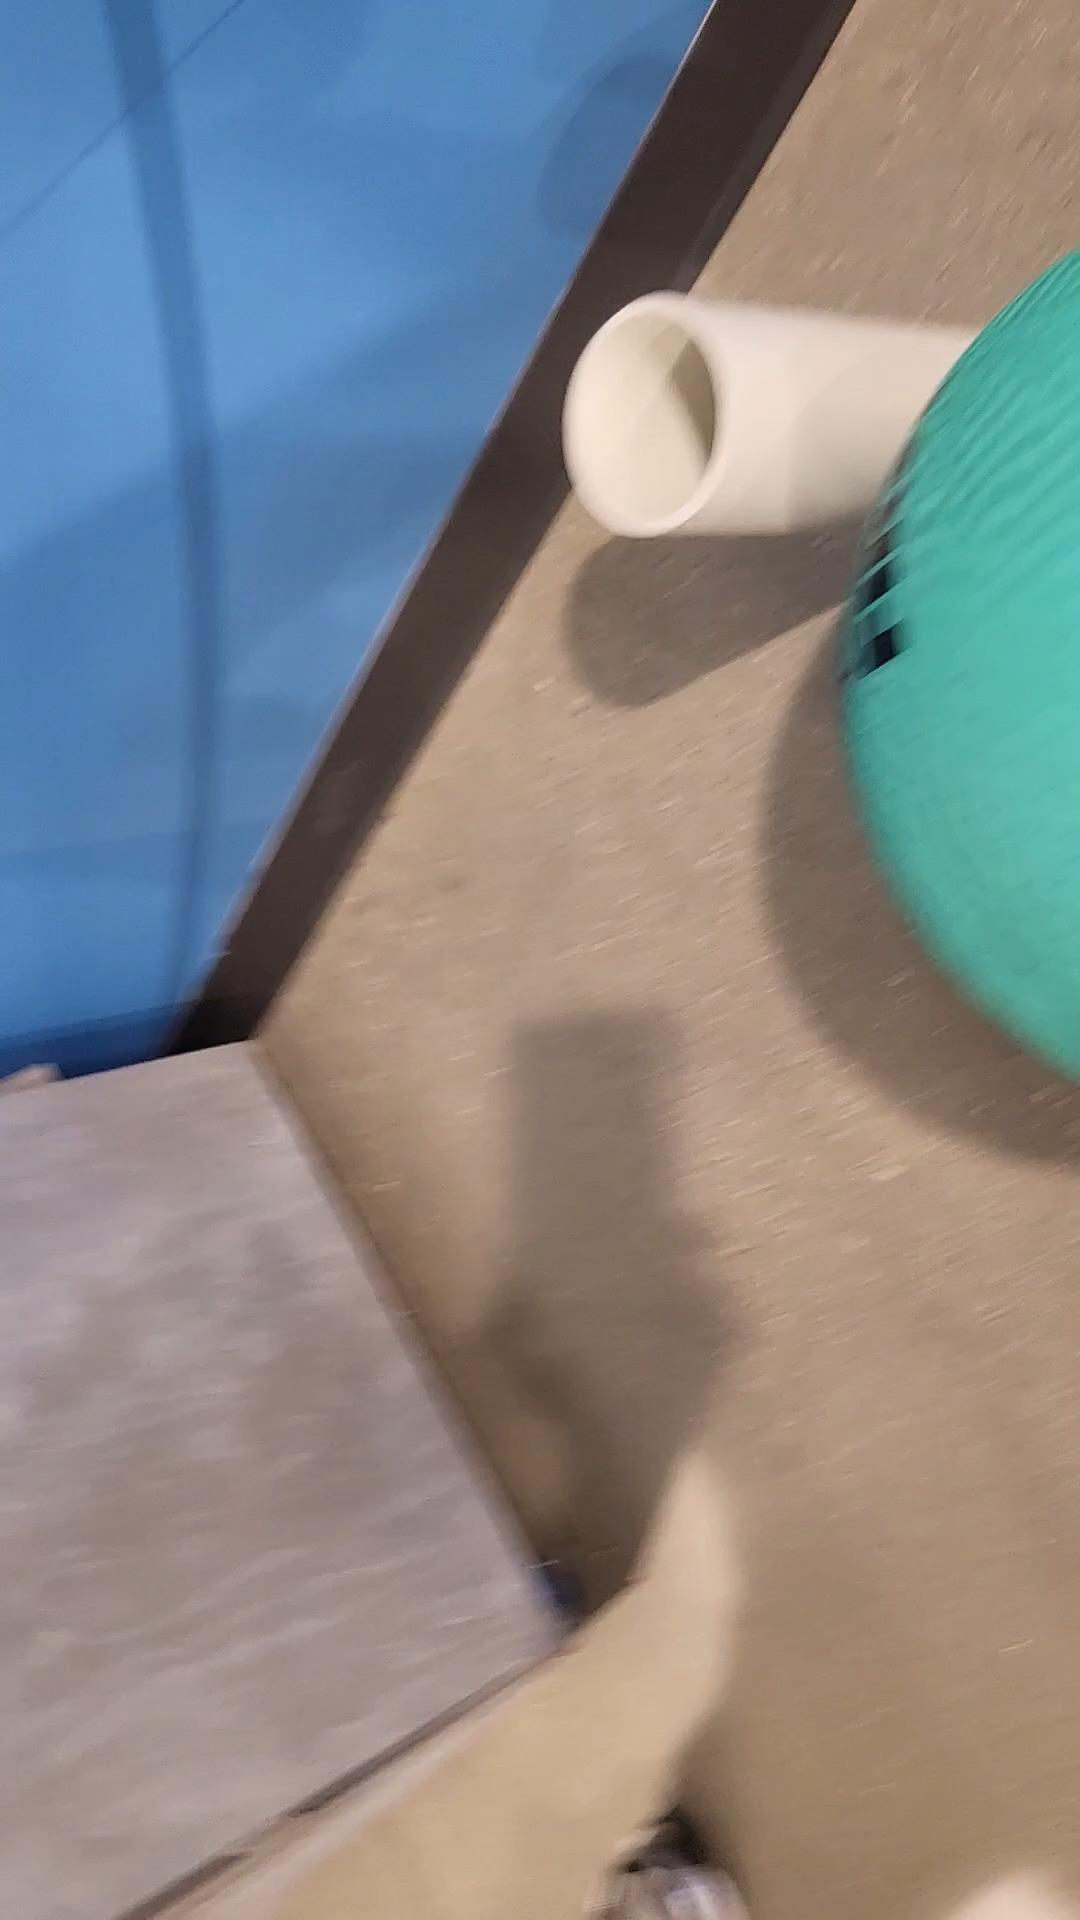algae: (832, 235, 1080, 1095)
coral: (558, 287, 988, 547)
